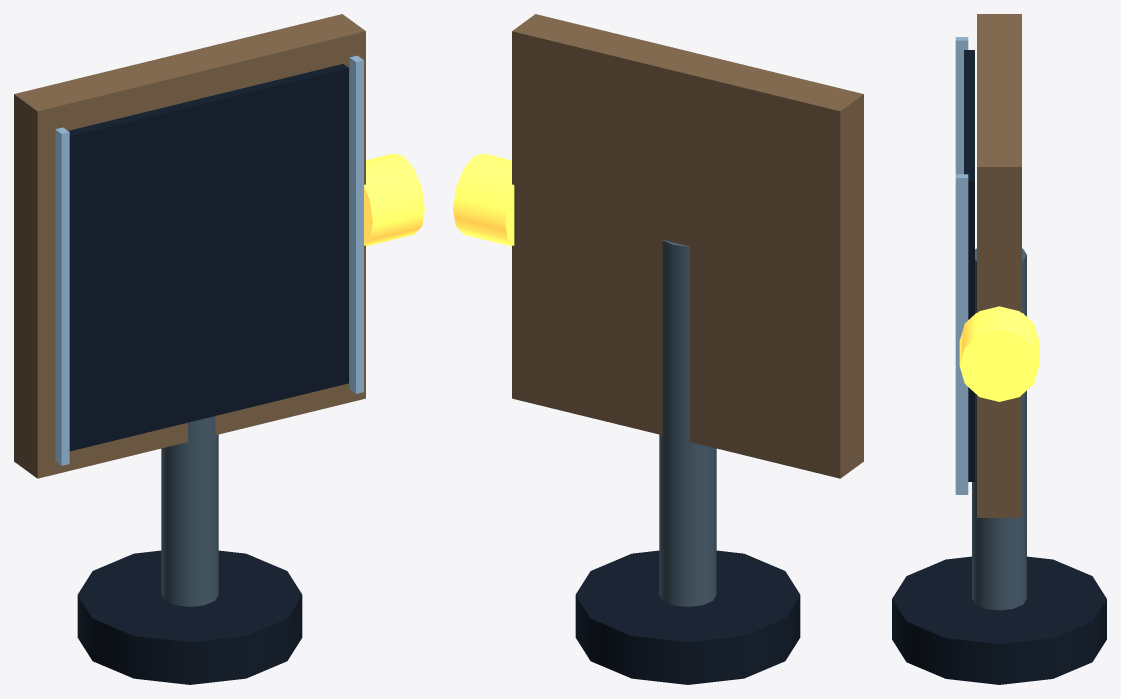
Rendered from device-mirror.glb.
The picture shows the model from 3 angles, left to right: view 1: azimuth 30°, elevation 25°; view 2: azimuth 150°, elevation 25°; view 3: azimuth 270°, elevation 25°; orthographic projection. The views are drawn at different scales.
Visible parts, largest first — view 1: mirror-surface, mirror-frame, mirror-foot, state-light (×2), mirror-stalk, rotation-knob; view 2: mirror-frame, mirror-foot, mirror-stalk, rotation-knob; view 3: mirror-foot, mirror-frame, mirror-stalk, rotation-knob, state-light (×2), mirror-surface.
Boxes of the visible parts, x1,y1,x2,y2 form: mirror-surface: (68, 64, 348, 451); mirror-frame: (14, 14, 365, 478); mirror-foot: (77, 550, 302, 684); state-light (×2): (55, 55, 363, 465); mirror-stalk: (161, 416, 218, 606); rotation-knob: (364, 153, 424, 246); mirror-frame: (512, 14, 863, 478); mirror-foot: (575, 550, 800, 684); mirror-stalk: (659, 240, 716, 606); rotation-knob: (453, 153, 514, 246); mirror-foot: (892, 556, 1106, 684); mirror-frame: (977, 14, 1021, 517); mirror-stalk: (972, 248, 1026, 610); rotation-knob: (959, 306, 1039, 401); state-light (×2): (955, 37, 968, 494); mirror-surface: (964, 50, 974, 481).
Size of the model in its own units: 1.67 by 2.42 by 0.86.
